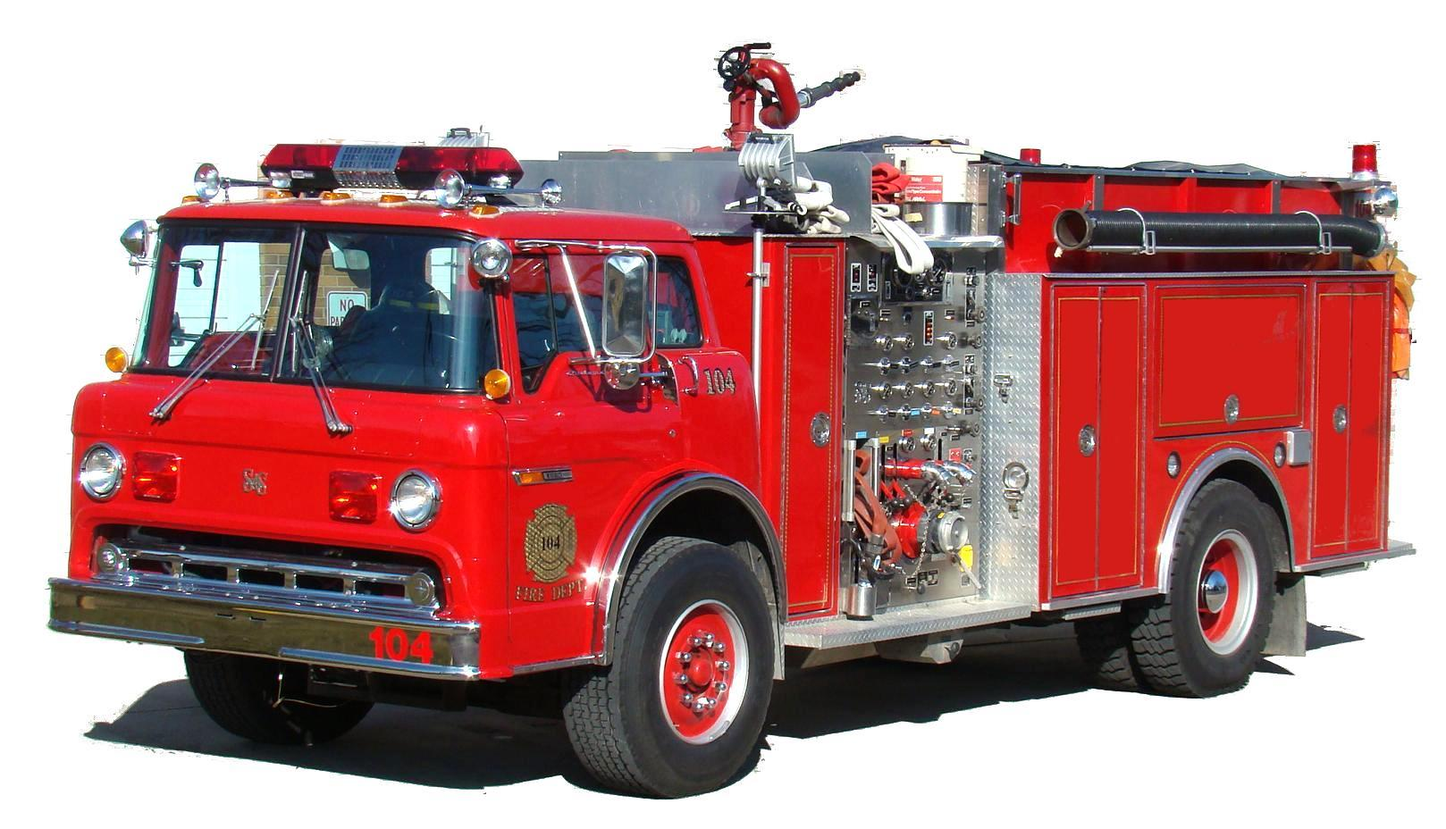Fire-engine: (46, 39, 1418, 800)
